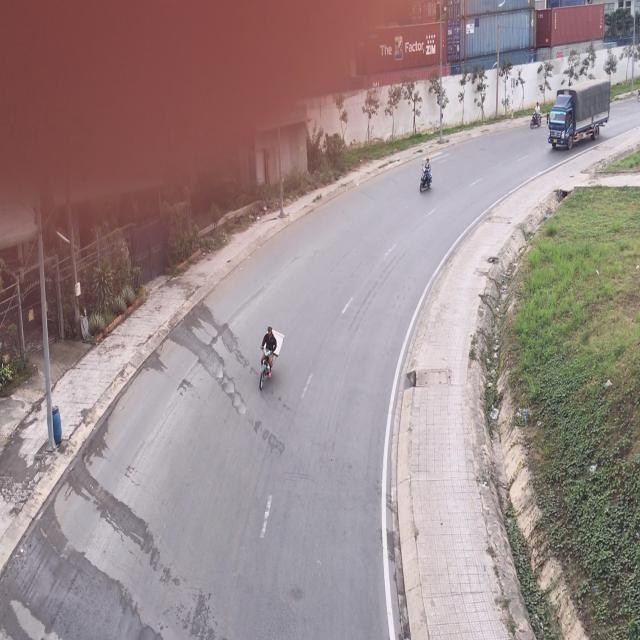motorbike: (260, 326, 280, 393), (418, 154, 434, 193), (530, 102, 542, 128)
truck: (547, 82, 608, 156)
